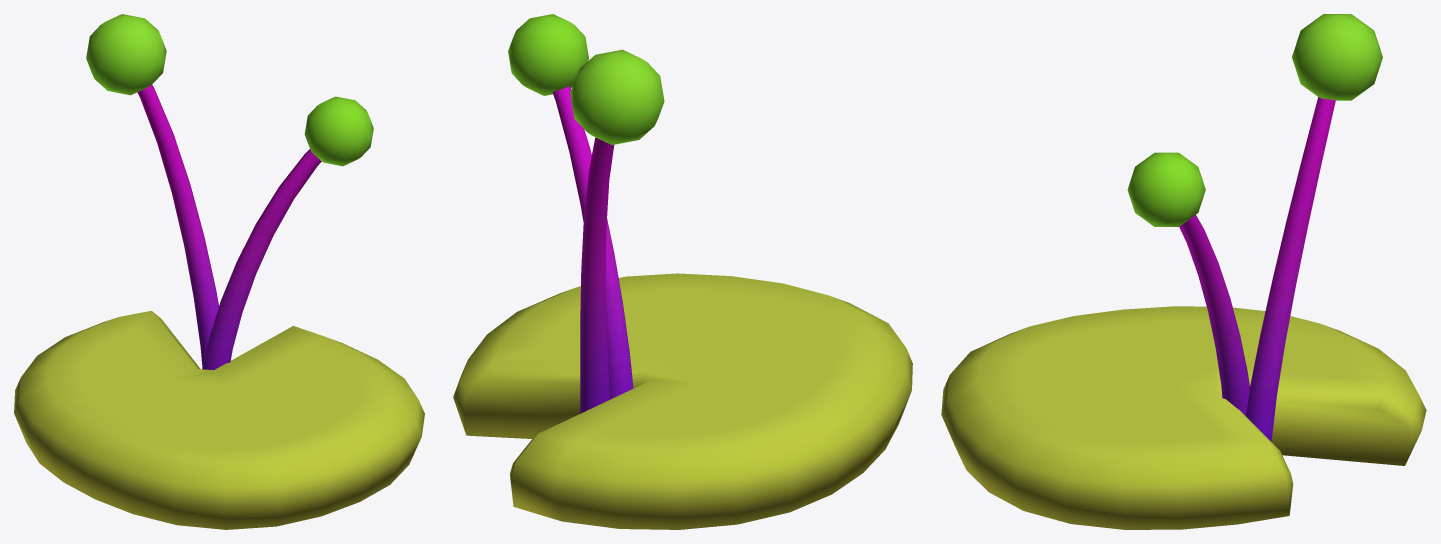
Rendered from Leaf_02.glb.
3 views of the same model, side by side, from view 1: azimuth 30°, elevation 25°; view 2: azimuth 150°, elevation 25°; view 3: azimuth 270°, elevation 25° (orthographic). The views are drawn at different scales.
Parts seen in each view (by area): view 1: Leaf_02; view 2: Leaf_02; view 3: Leaf_02.
Part boxes in pixels (bbox=[...]): Leaf_02: bbox=[14, 14, 424, 529]; Leaf_02: bbox=[453, 14, 912, 529]; Leaf_02: bbox=[941, 14, 1426, 529].
Bounding box in the file's own units: 2.74 × 3.02 × 3.12.
Materials: 2 (2 with a texture image).
